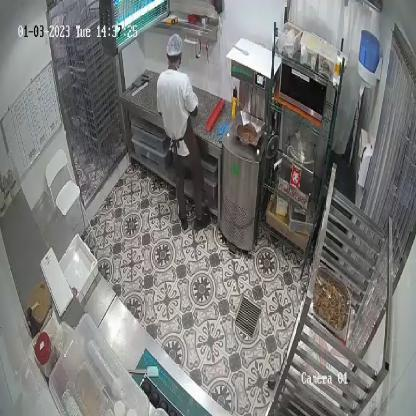apron: (164, 108, 196, 166)
